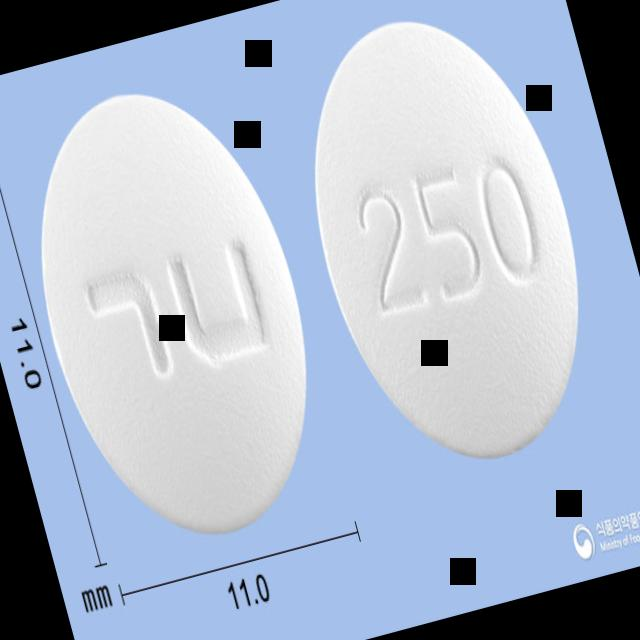Banan: (0, 62, 353, 564), (269, 0, 624, 486)
